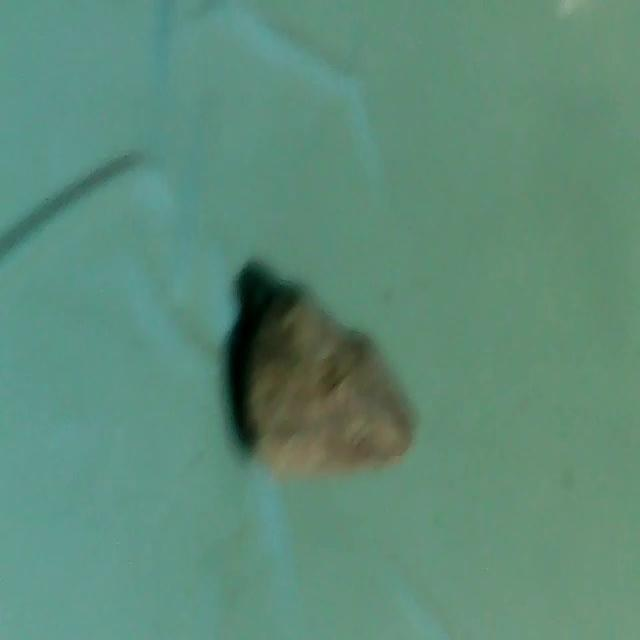rock: (236, 274, 423, 491)
